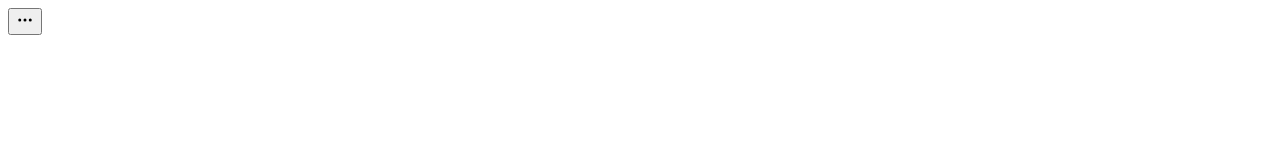
Test: MenuActions › appelle onChoisir puis se referme ; se ferme au clic extérieur
The image size is (1280, 160).
Click the button named "Autres actions": (25, 22) 8,8 -> 42,35
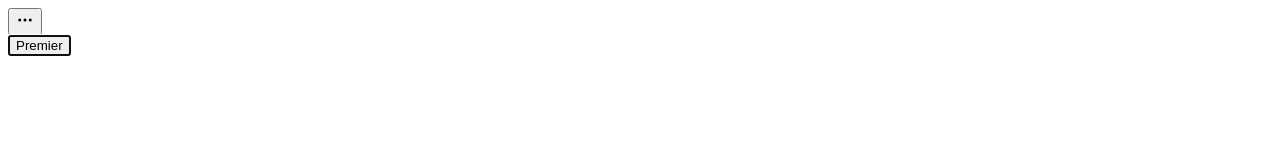
Click the menu item "Premier": (39, 46) 8,35 -> 71,56
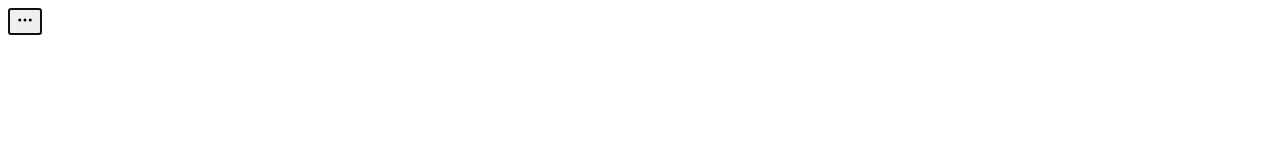
Expected: the menu is gone
Click the button named "Autres actions": (25, 22) 8,8 -> 42,35
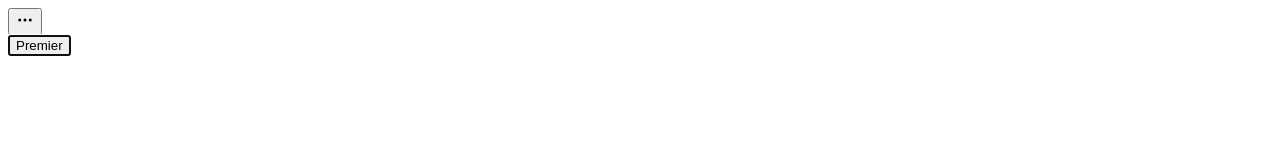
Press the mouse on the element showing "Premier": (640, 32) 8,8 -> 1272,56
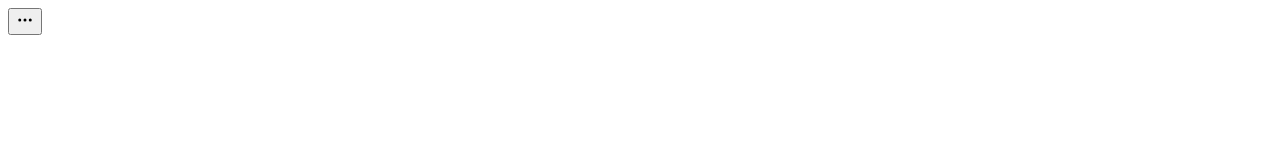
Expected: the menu is gone
